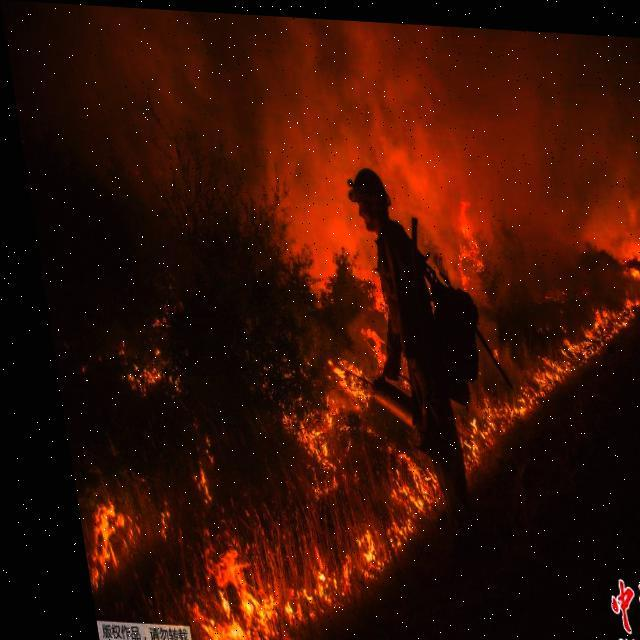Fire: (138, 179, 639, 639), (62, 495, 120, 599)
